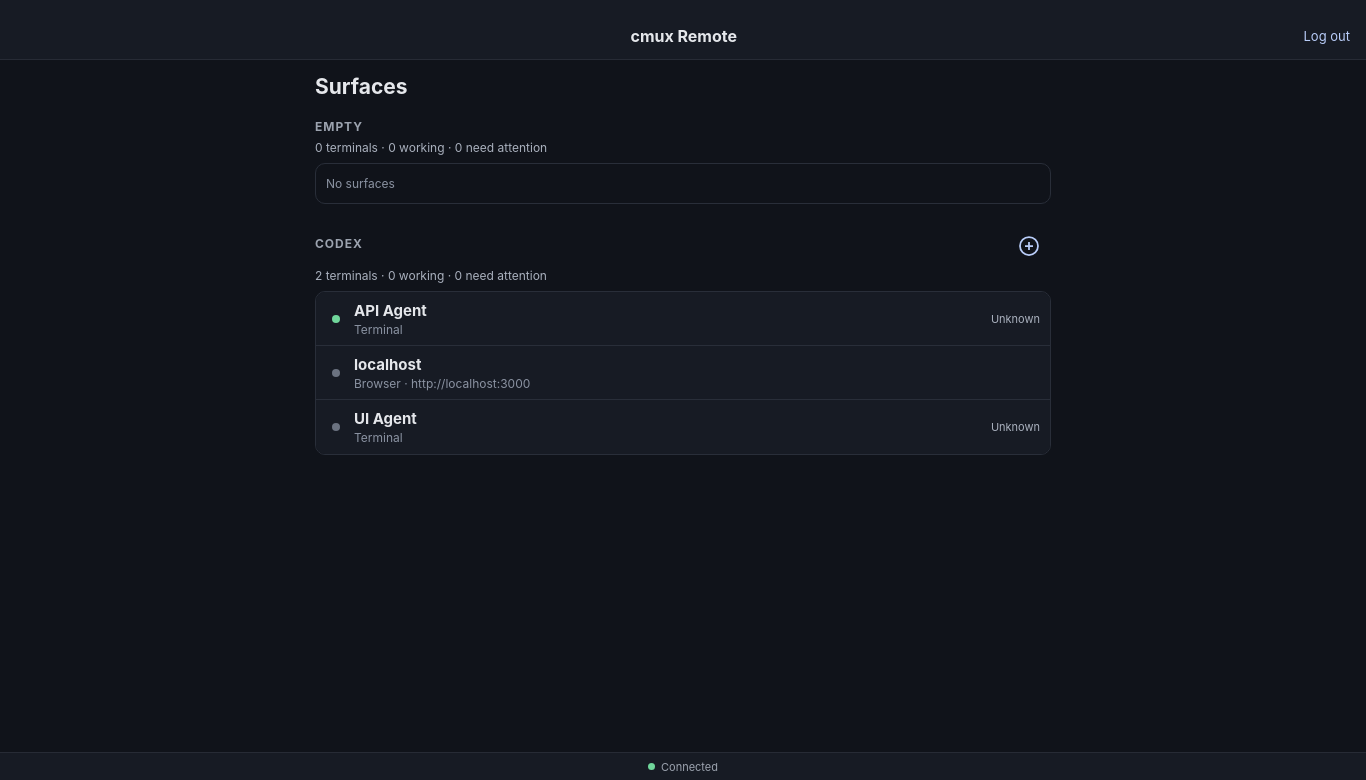
Test: clears an unconfirmed creation notice when navigating to an existing terminal
The image size is (1366, 780).
Step 1. Click the button named "New terminal in CODEX" → (1029, 246), box x1=1007 y1=224 x2=1051 y2=268
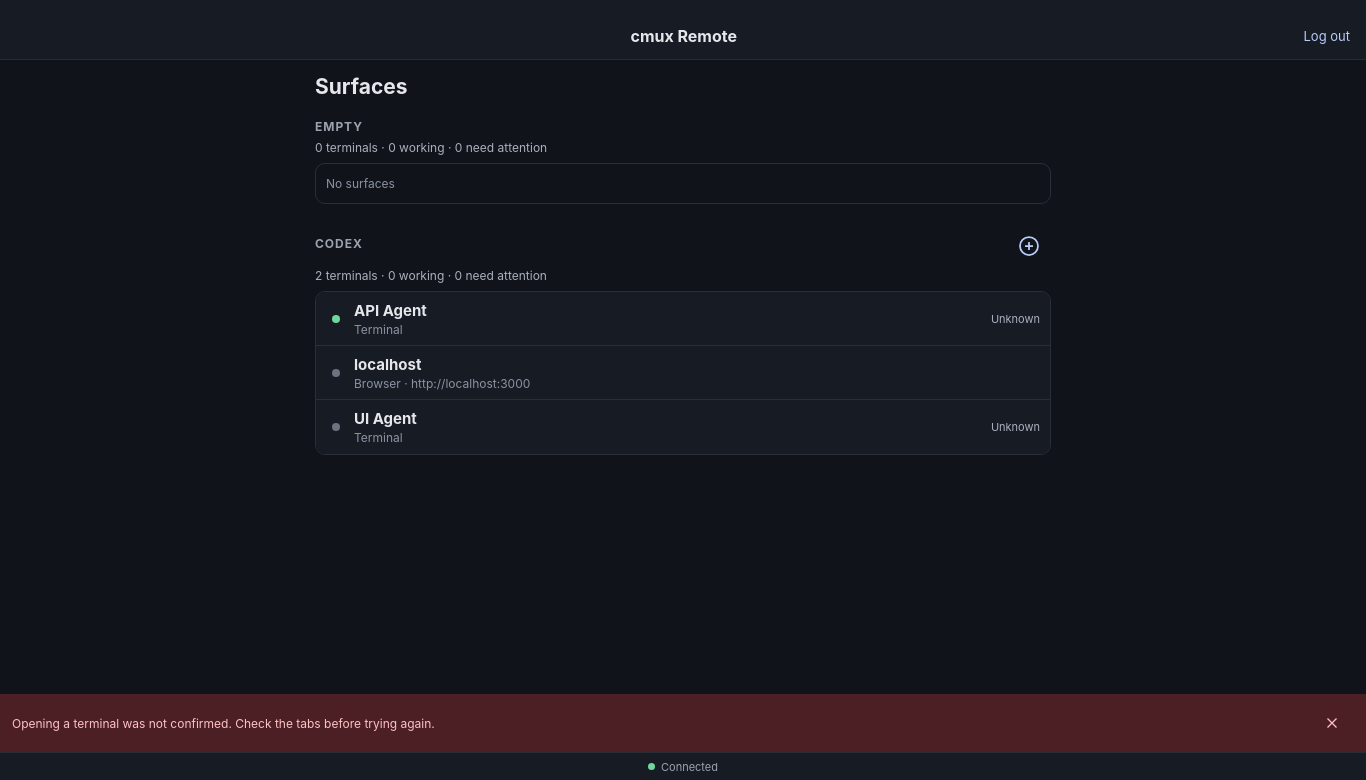
Now the message shows "Check the tabs before trying again.", box x1=12 y1=716 x2=435 y2=730
Step 2. Click the button "API Agent Terminal Unknown" → (390, 310), box x1=316 y1=292 x2=1050 y2=346
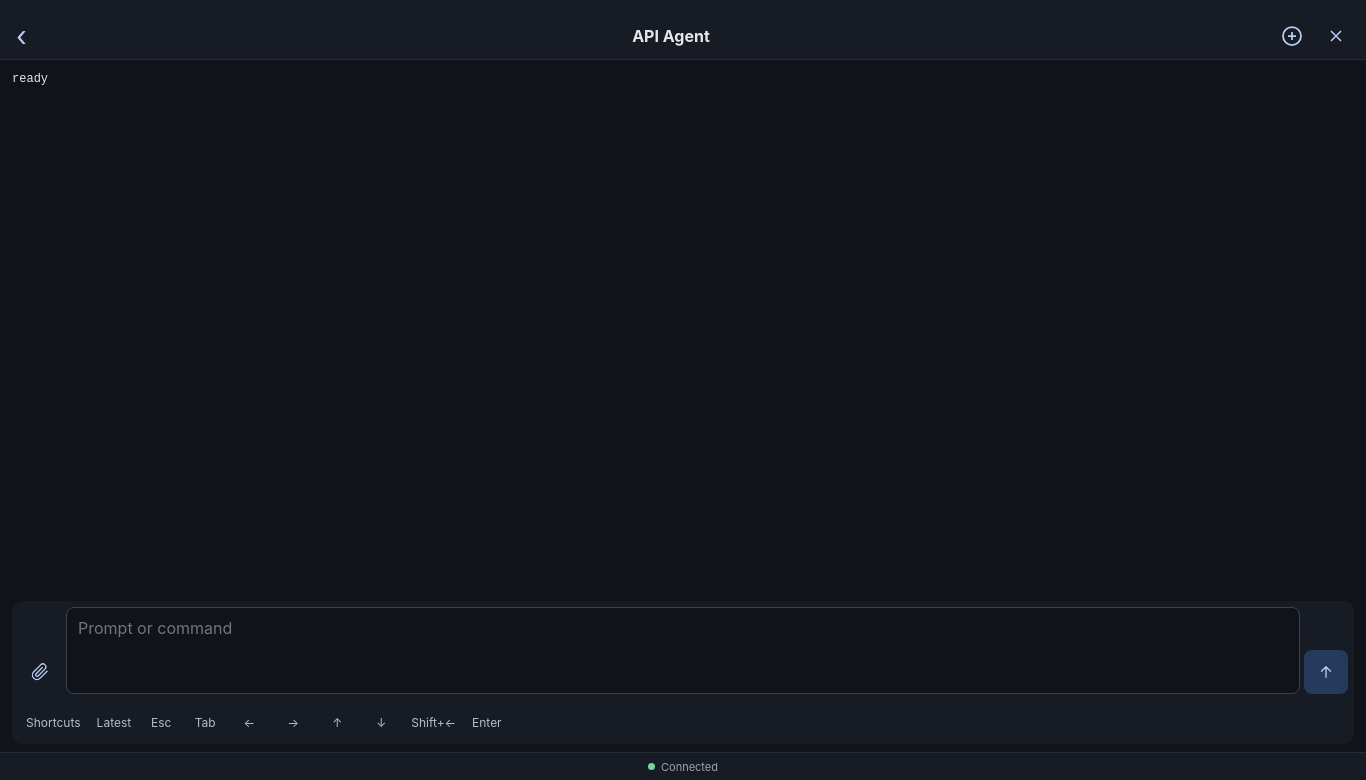
Now the message "Opening a terminal was not confirmed. Check the tabs before trying again." is gone
